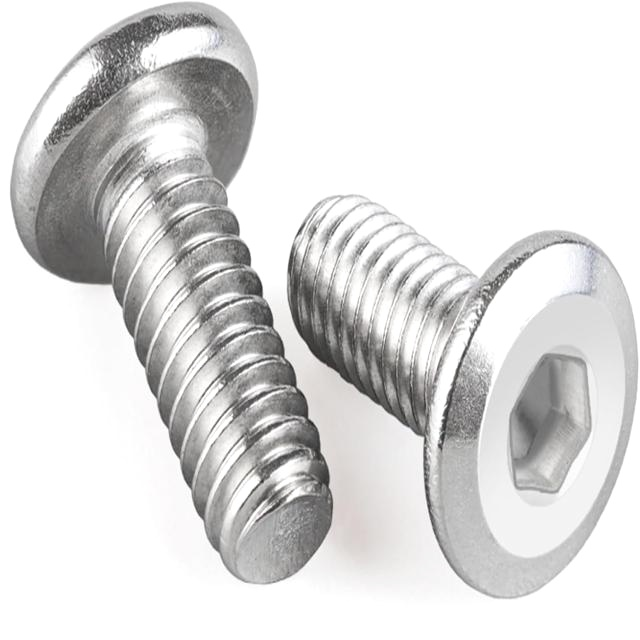allen: (507, 349, 594, 497)
